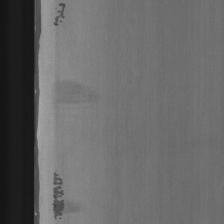water_spot: (48, 165, 67, 223), (51, 0, 70, 34)
